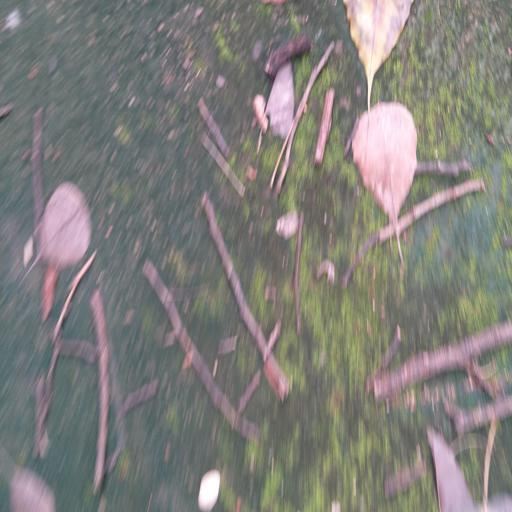algae: (3, 2, 512, 512)
